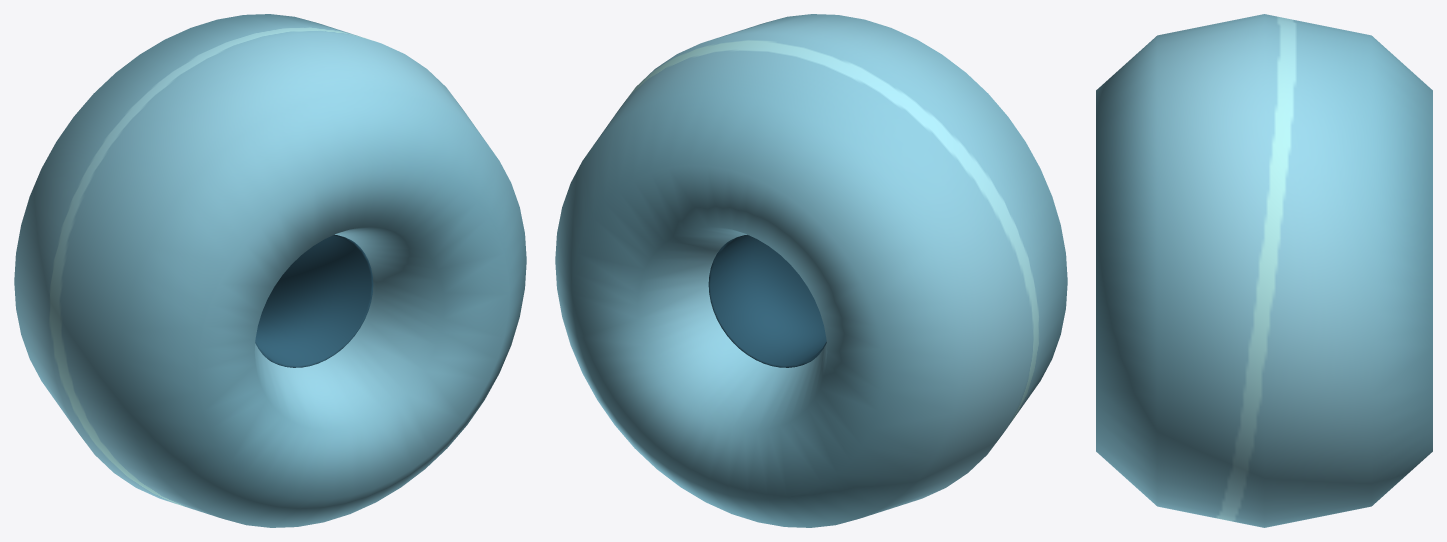
The model's file is glass_bead.obj.
The picture shows the model from 3 angles, left to right: view 1: azimuth 30°, elevation 25°; view 2: azimuth 150°, elevation 25°; view 3: azimuth 270°, elevation 25°; orthographic projection.
Parts seen in each view (by area): view 1: A_DrilledLampworkBody.001_glass_bead_glass, B_DarkBore.001_glass_bead_bore_shadow; view 2: A_DrilledLampworkBody.001_glass_bead_glass, B_DarkBore.001_glass_bead_bore_shadow; view 3: A_DrilledLampworkBody.001_glass_bead_glass.
Part boxes in pixels (x1,y1,x2,y2): A_DrilledLampworkBody.001_glass_bead_glass: [14, 14, 526, 527]; B_DarkBore.001_glass_bead_bore_shadow: [255, 235, 373, 367]; A_DrilledLampworkBody.001_glass_bead_glass: [555, 14, 1067, 527]; B_DarkBore.001_glass_bead_bore_shadow: [708, 235, 826, 367]; A_DrilledLampworkBody.001_glass_bead_glass: [1096, 14, 1432, 527].
Bounding box in the file's own units: 1.68 × 1.68 × 1.1.
